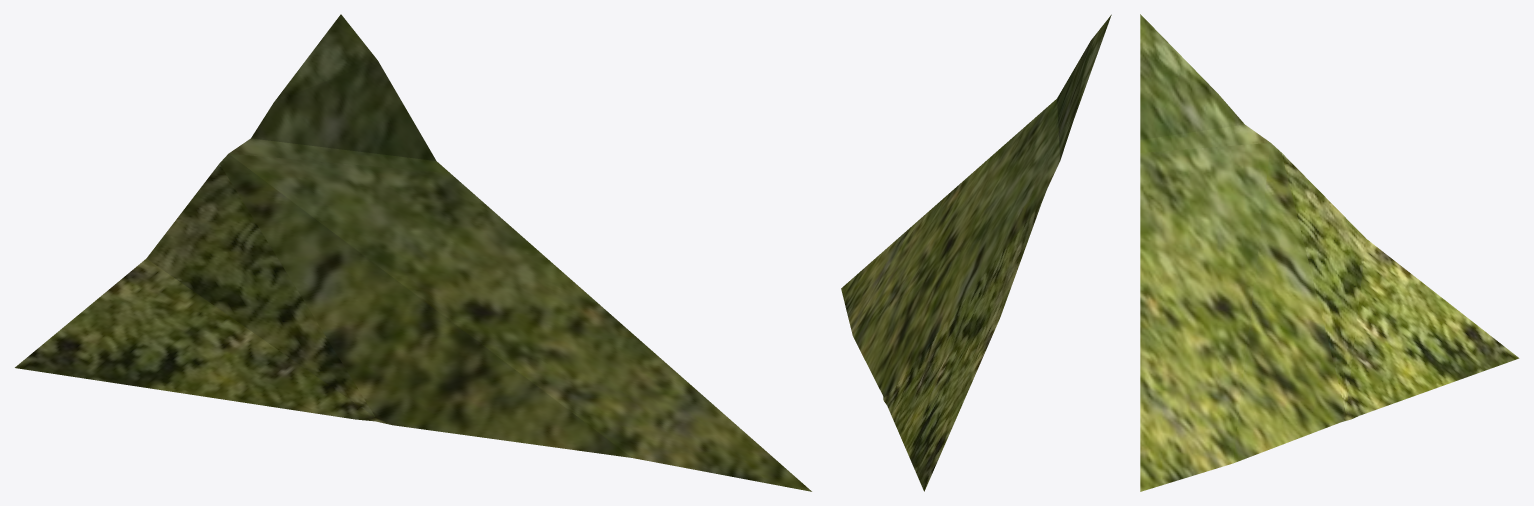
3 renders of one model, left to right at view 1: azimuth 30°, elevation 25°; view 2: azimuth 150°, elevation 25°; view 3: azimuth 270°, elevation 25°, orthographic. The views are drawn at different scales.
Size of the model in its own units: 1.83 by 2.2 by 2.2.
Materials: 1 (1 with a texture image).
